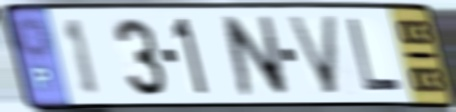1: (170, 16, 211, 97), (62, 15, 100, 99)
3: (112, 15, 169, 98)
L: (345, 16, 406, 96)
N: (219, 13, 292, 98)
V: (284, 14, 341, 98)
